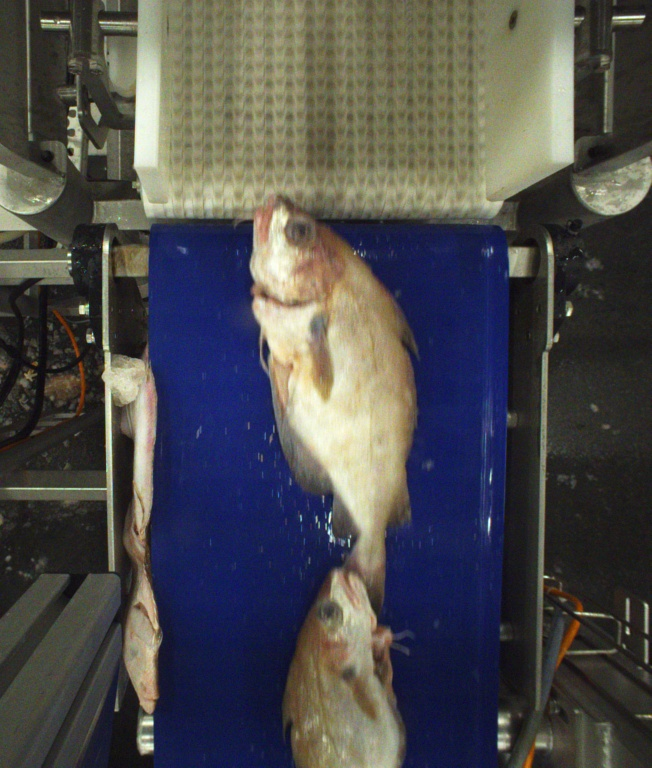BIB: (231, 192, 419, 620)
